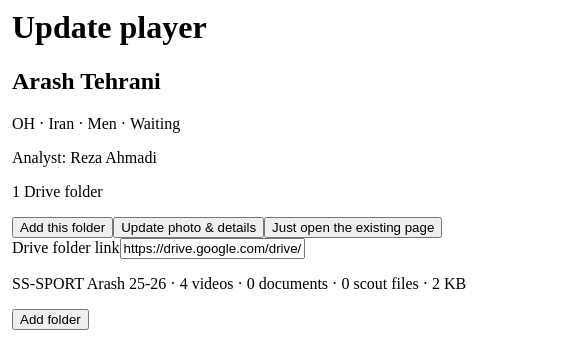
Test: UpdatePlayer › adds a checked folder to the player
Earlier steps of the test are not shown.
Click the button "Add folder". click: x=50, y=319
box: [12,309,89,330]
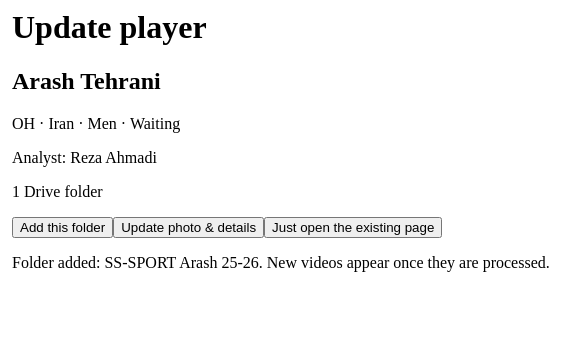
Result: the text "Folder added: SS-SPORT Arash 25-26. New videos appear once they are processed." is shown at [12,254,550,271]
